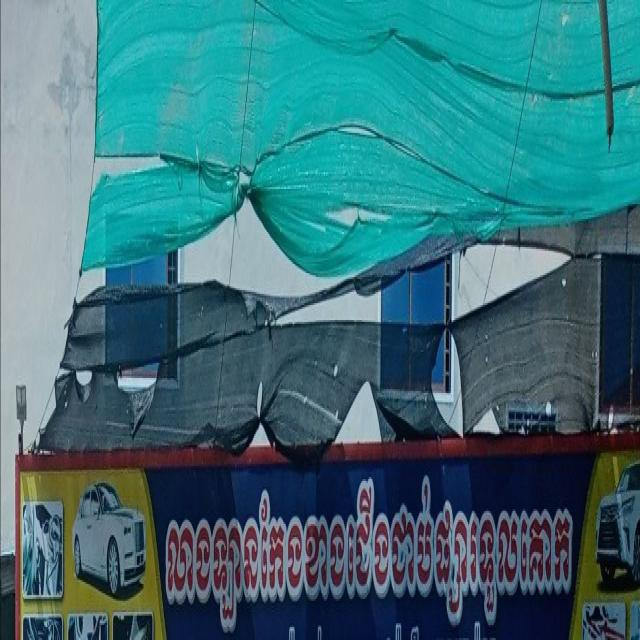Yolov11kh: (157, 464, 586, 631)
